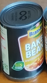beans: (1, 1, 44, 82)
